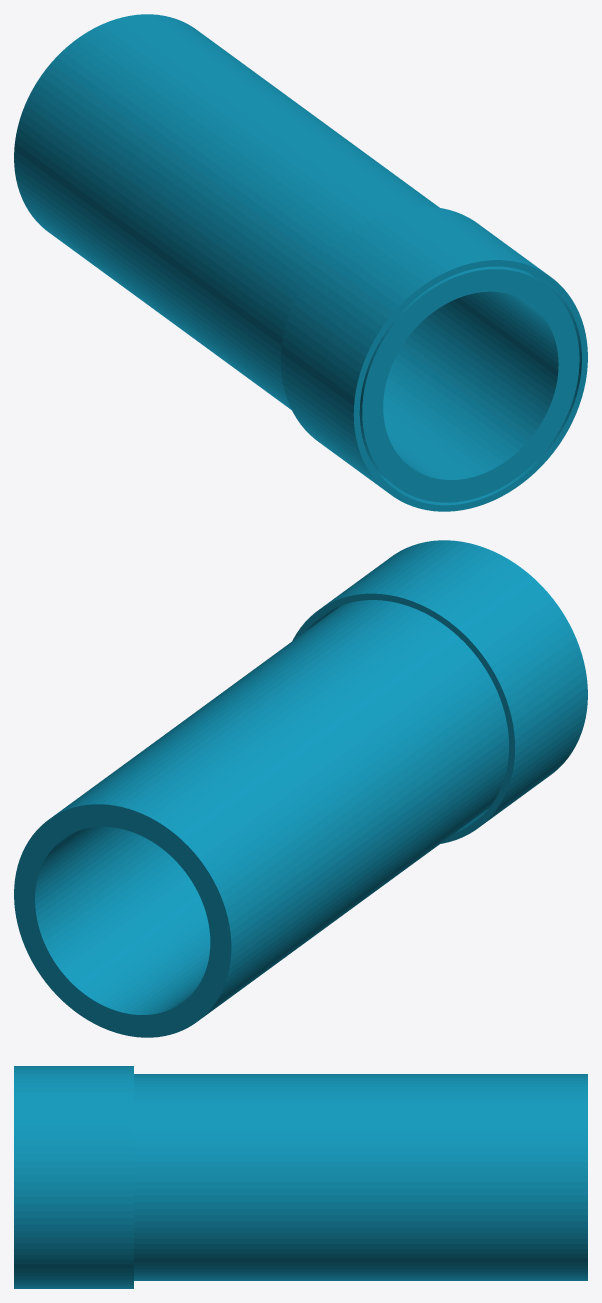
File: agua_bajante.glb
3 renders of one model, top to bottom at view 1: azimuth 30°, elevation 25°; view 2: azimuth 150°, elevation 25°; view 3: azimuth 270°, elevation 25°, orthographic. The views are drawn at different scales.
Visible parts, largest first — view 1: world; view 2: world; view 3: world.
Part boxes in pixels (<box>): world: <box>14,14,587,511</box>; world: <box>14,540,587,1037</box>; world: <box>14,1066,587,1288</box>.
Bounding box in the file's own units: 33.4 × 33.4 × 86.
